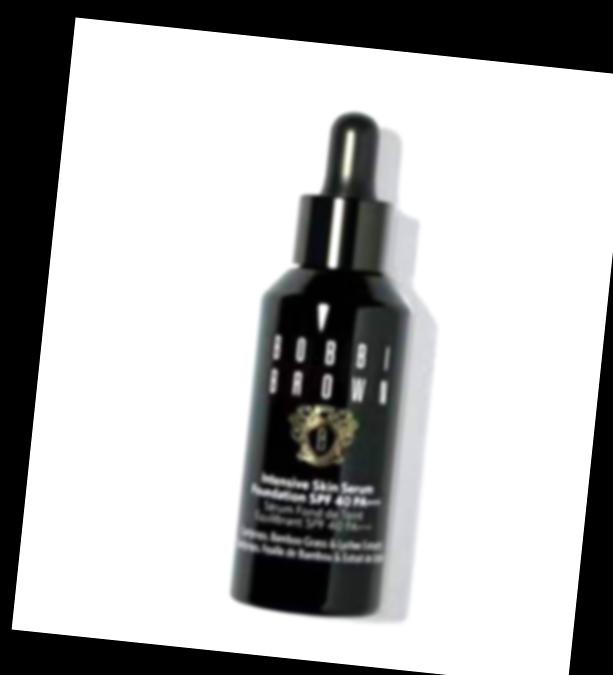cosmetic: (224, 103, 428, 611)
